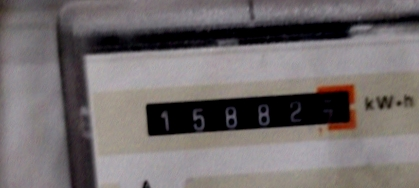1: (157, 107, 173, 133)
2: (287, 98, 303, 123)
5: (189, 105, 207, 131)
7: (320, 104, 335, 124)
8: (222, 104, 240, 131), (255, 101, 271, 127)
screen: (130, 76, 366, 152)
